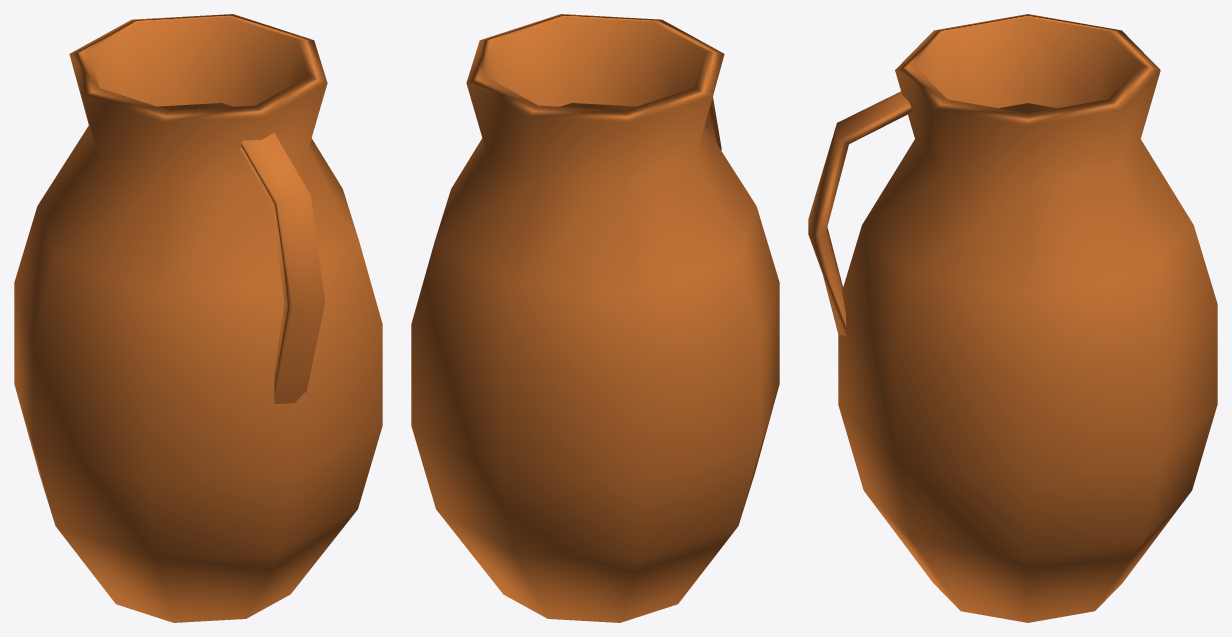
The model's file is Jarra.fbx.
3 views of the same model, side by side, from view 1: azimuth 30°, elevation 25°; view 2: azimuth 150°, elevation 25°; view 3: azimuth 270°, elevation 25° (orthographic).
Parts seen in each view (by area): view 1: Jarra; view 2: Jarra; view 3: Jarra.
Part boxes in pixels (bbox=[...]): Jarra: bbox=[14, 14, 382, 622]; Jarra: bbox=[411, 14, 779, 622]; Jarra: bbox=[808, 14, 1217, 622].
Size of the model in its own units: 16.41 by 24.69 by 17.7.
